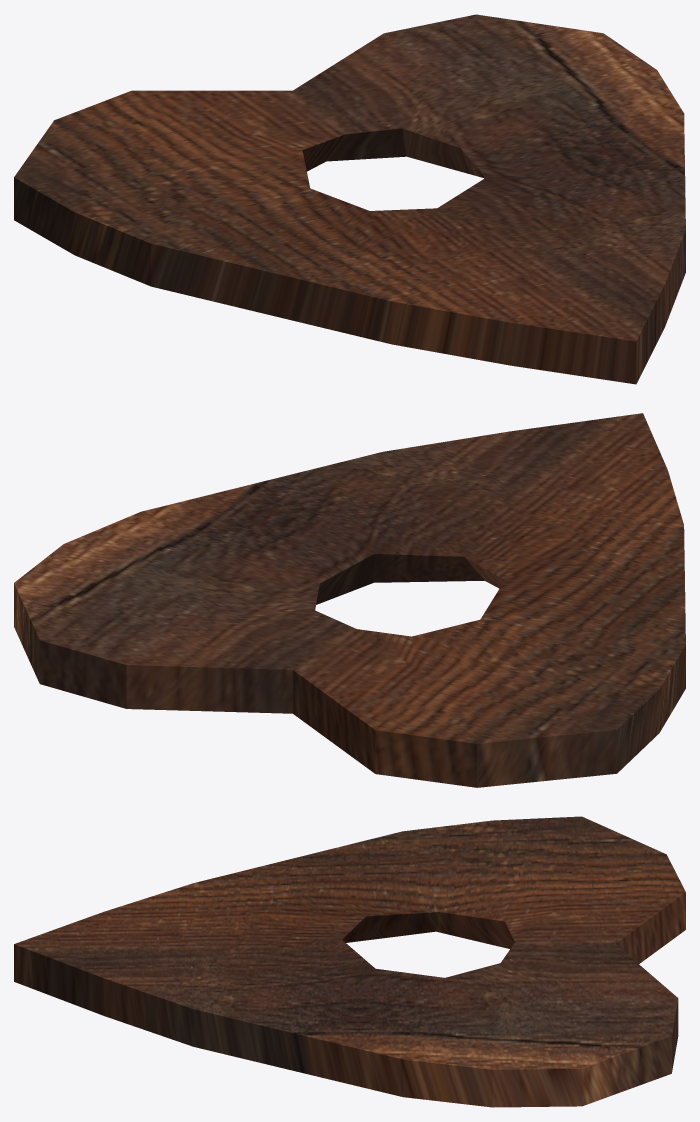
Rendered from planchette.fbx.
3 renders of one model, top to bottom at view 1: azimuth 30°, elevation 25°; view 2: azimuth 150°, elevation 25°; view 3: azimuth 270°, elevation 25°, orthographic. The views are drawn at different scales.
Visible parts, largest first — view 1: pCube1; view 2: pCube1; view 3: pCube1.
Boxes of the visible parts, x1,y1,x2,y2 form: pCube1: (14,14,685,384); pCube1: (14,413,685,787); pCube1: (14,816,685,1107).
Size of the model in its own units: 1.18 by 0.0819 by 1.32.
1 material, 1 textured.
